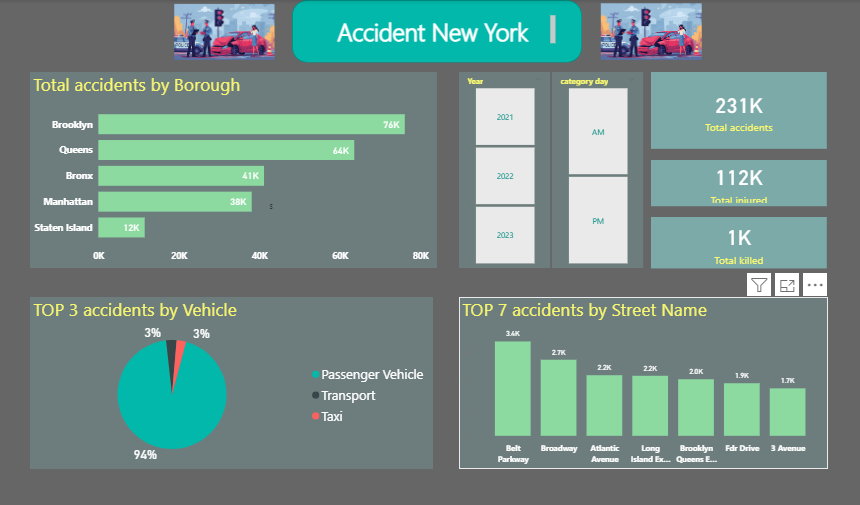

The page's visual inventory and layout, read from the dashboard file:
{"tool":"powerbi","page":{"name":"Page 1","canvas":[1366,768],"ordinal":0},"visuals":[{"type":"shape","box":[423.1,0,445.4,96.3],"z":0,"group":"g2"},{"type":"card","fields":{"Values":["NYC_Collisions.Total accidents"]},"box":[974.3,110.9,270.4,117.6],"z":0},{"type":"textbox","box":[453.2,18.7,379.4,56.2],"z":1000,"group":"g2"},{"type":"card","fields":{"Values":["NYC_Collisions.total injured"]},"box":[974.3,245.2,270.4,70.6],"z":1000},{"type":"card","fields":{"Values":["NYC_Collisions.total killed"]},"box":[974.3,332.6,270.4,79],"z":2000},{"type":"clusteredBarChart","fields":{"Category":["NYC_Collisions.Borough"],"Y":["NYC_Collisions.Total accidents"]},"box":[20,110.6,625.2,301.1],"z":3000,"group":"g1"},{"type":"pieChart","title":"TOP 3 accidents by Vehicle ","fields":{"Category":["NYC_Collisions.Vehicle Type"],"Y":["NYC_Collisions.Total accidents"]},"box":[20.2,456.5,619.2,263.5],"z":3000},{"type":"clusteredColumnChart","title":"TOP 7 accidents by Street Name","fields":{"Category":["NYC_Collisions.Street Name"],"Y":["NYC_Collisions.Total accidents"]},"box":[678.9,456.2,566.8,264.2],"z":4000},{"type":"textbox","box":[100.8,100.8,299,62.2],"z":5000},{"type":"slicer","fields":{"Values":["NYC_Collisions.Date.Variation.Date Hierarchy.Year"]},"box":[678.2,110.9,139.7,301],"z":6000},{"type":"slicer","fields":{"Values":["NYC_Collisions.category day"]},"box":[822.2,110.9,139.7,301],"z":7000},{"type":"group","id":"g1","title":"Group 1","box":[20,110.6,625.2,301.1],"z":8000},{"type":"image","box":[884.7,0,178.2,96.8],"z":9000},{"type":"textbox","box":[382.5,301.1,244.2,150.5],"z":10000},{"type":"group","id":"g2","title":"Group 2","box":[423.1,0,445.4,96.3],"z":11000},{"type":"image","box":[236.5,0,164.4,98.3],"z":12000}]}

Visuals, with their boxes on the page's 1366x768 design canvas (x1, y1, x2, y2). These are canvas units, not pixel positions in the 860x505 screenshot, which may show the page scaled, cropped or inside an application window:
shape: {"x1": 423, "y1": 0, "x2": 868, "y2": 96}
card - NYC_Collisions.Total accidents: {"x1": 974, "y1": 111, "x2": 1245, "y2": 228}
textbox: {"x1": 453, "y1": 19, "x2": 833, "y2": 75}
card - NYC_Collisions.total injured: {"x1": 974, "y1": 245, "x2": 1245, "y2": 316}
card - NYC_Collisions.total killed: {"x1": 974, "y1": 333, "x2": 1245, "y2": 412}
clusteredBarChart - NYC_Collisions.Borough x NYC_Collisions.Total accidents: {"x1": 20, "y1": 111, "x2": 645, "y2": 412}
"TOP 3 accidents by Vehicle " pieChart: {"x1": 20, "y1": 456, "x2": 639, "y2": 720}
"TOP 7 accidents by Street Name" clusteredColumnChart: {"x1": 679, "y1": 456, "x2": 1246, "y2": 720}
textbox: {"x1": 101, "y1": 101, "x2": 400, "y2": 163}
slicer - NYC_Collisions.Date.Variation.Date Hierarchy.Year: {"x1": 678, "y1": 111, "x2": 818, "y2": 412}
slicer - NYC_Collisions.category day: {"x1": 822, "y1": 111, "x2": 962, "y2": 412}
"Group 1" group: {"x1": 20, "y1": 111, "x2": 645, "y2": 412}
image: {"x1": 885, "y1": 0, "x2": 1063, "y2": 97}
textbox: {"x1": 382, "y1": 301, "x2": 627, "y2": 452}
"Group 2" group: {"x1": 423, "y1": 0, "x2": 868, "y2": 96}
image: {"x1": 236, "y1": 0, "x2": 401, "y2": 98}
